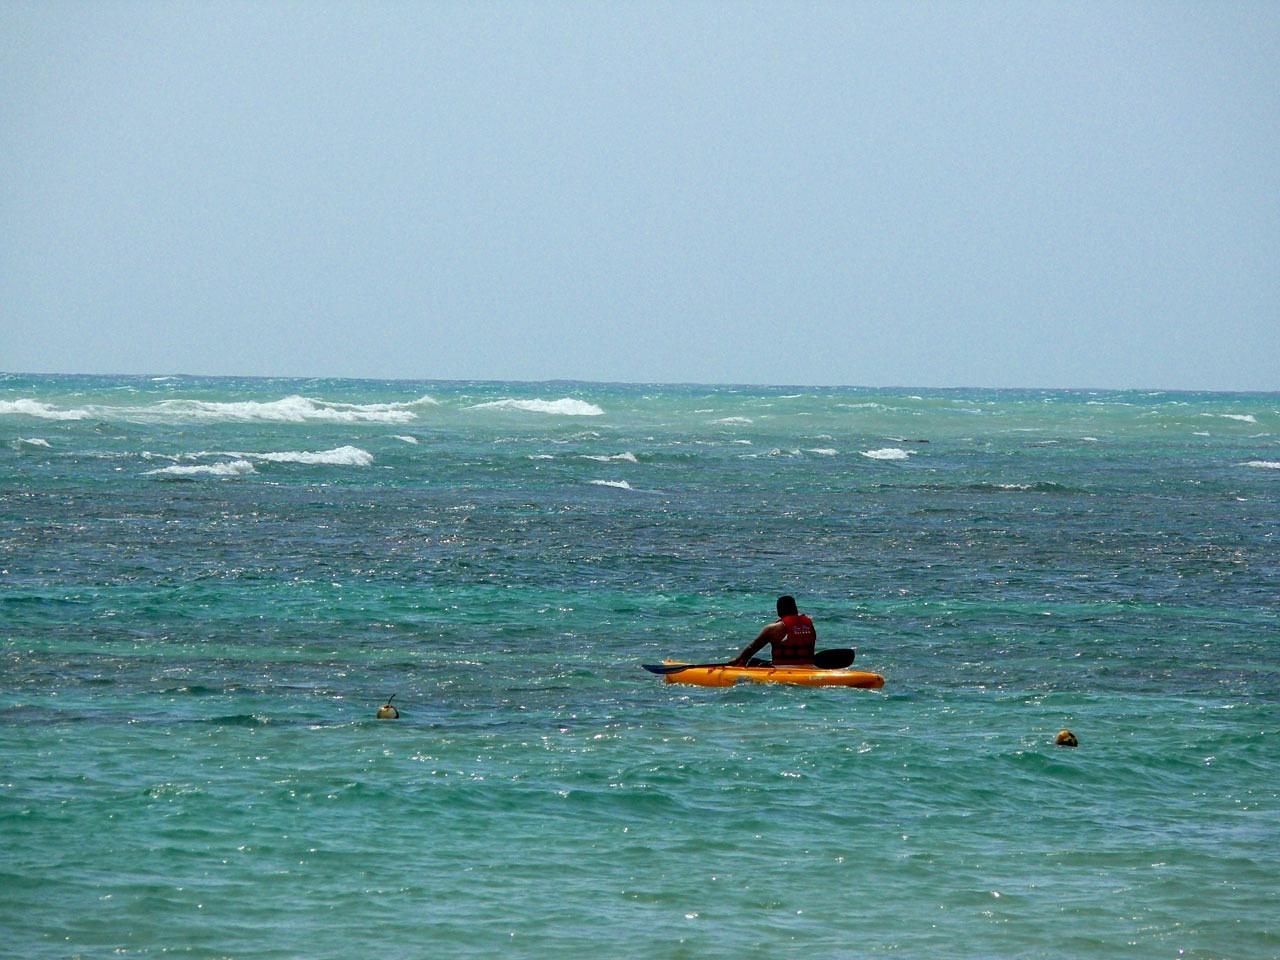kayak: (653, 655, 890, 698)
